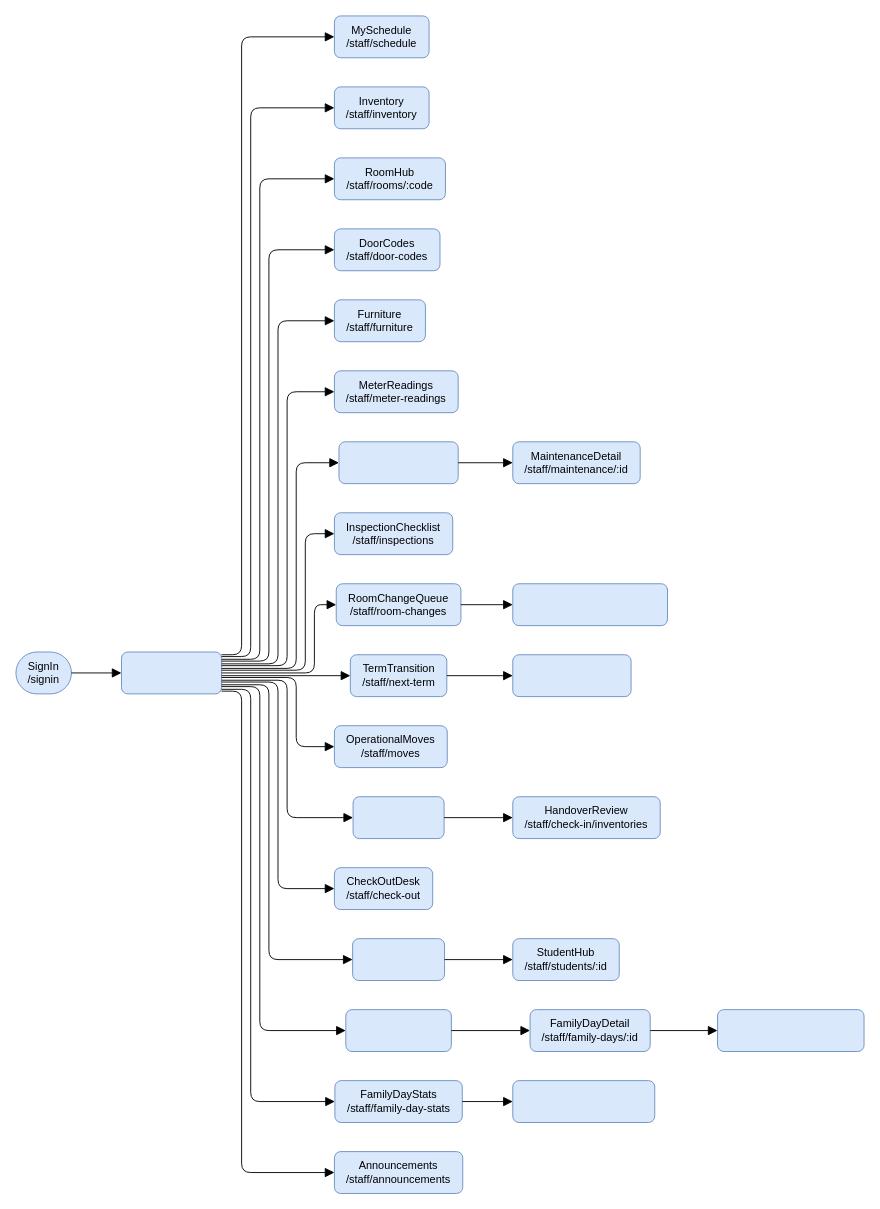
Image size: 880x1209. Some labels were removed from this diagram. Here are the shapes that lost their labels. From the top down, the centre of each, then its label:
pixel 398 462: MaintenanceQueue /staff/maintenance
pixel 589 604: SwapRequests /staff/room-changes/swaps
pixel 171 672: StaffDashboard /staff
pixel 571 675: TermTransition /staff/next-term/:tab
pixel 398 817: CheckInDesk /staff/check-in
pixel 398 959: Students /staff/students
pixel 398 1030: FamilyDays /staff/family-days
pixel 790 1030: VisitorDesk /staff/family-days/:id/desk
pixel 583 1101: FamilyDayStatsDetail /staff/family-day-stats/:id
